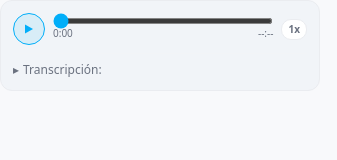
Test: VoiceMessagePlayer › shows real transcript when confidence >= 0.5
This screenshot has width=337, height=160.
Click the button "▸ Transcripción:" at (57, 70), box [13, 62, 102, 78]
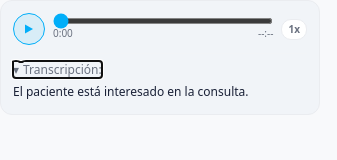
Check: the text "El paciente está interesado en la consulta." is shown, box [13, 83, 248, 100]
